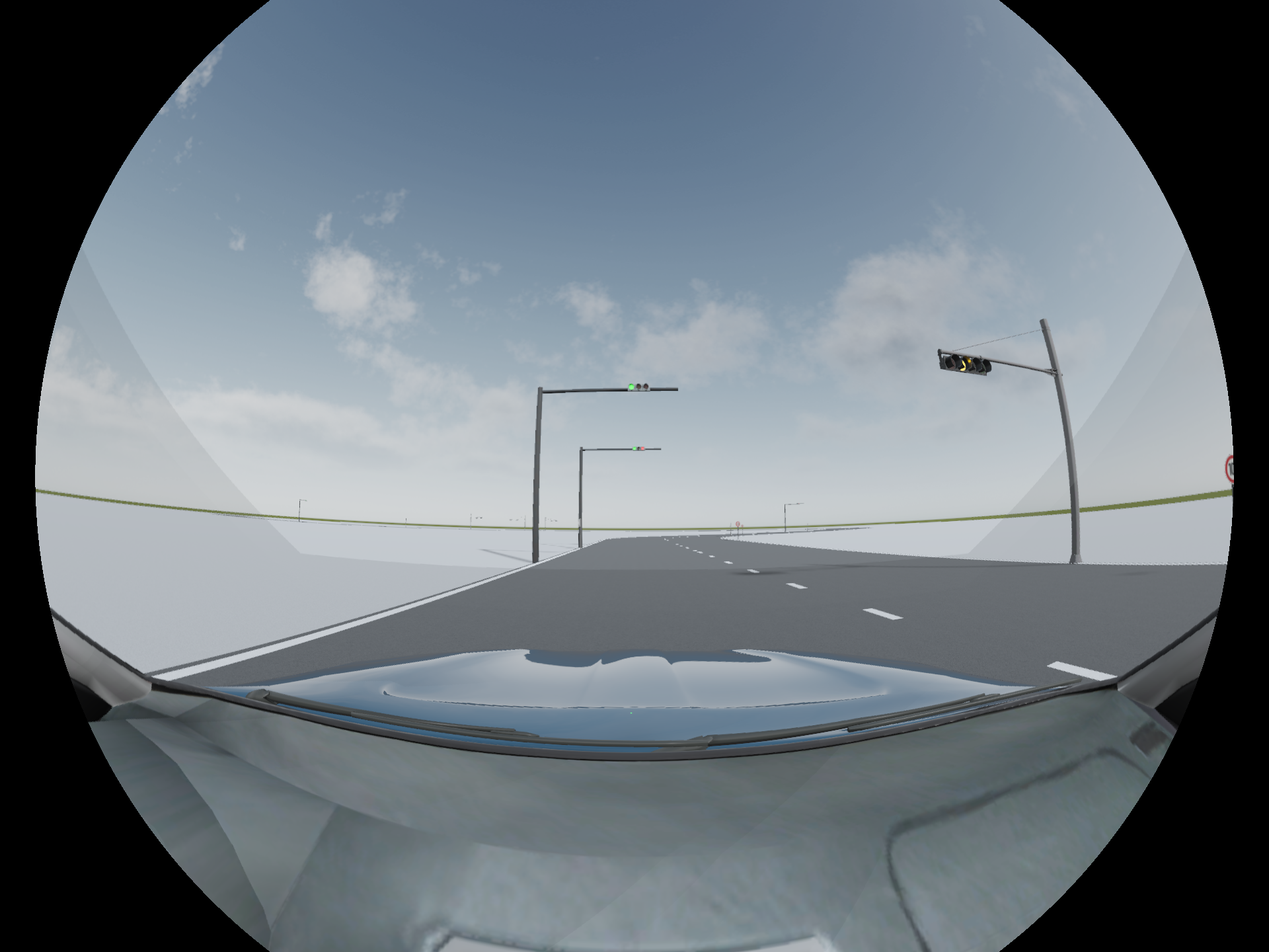Green Light: (624, 378, 652, 393)
